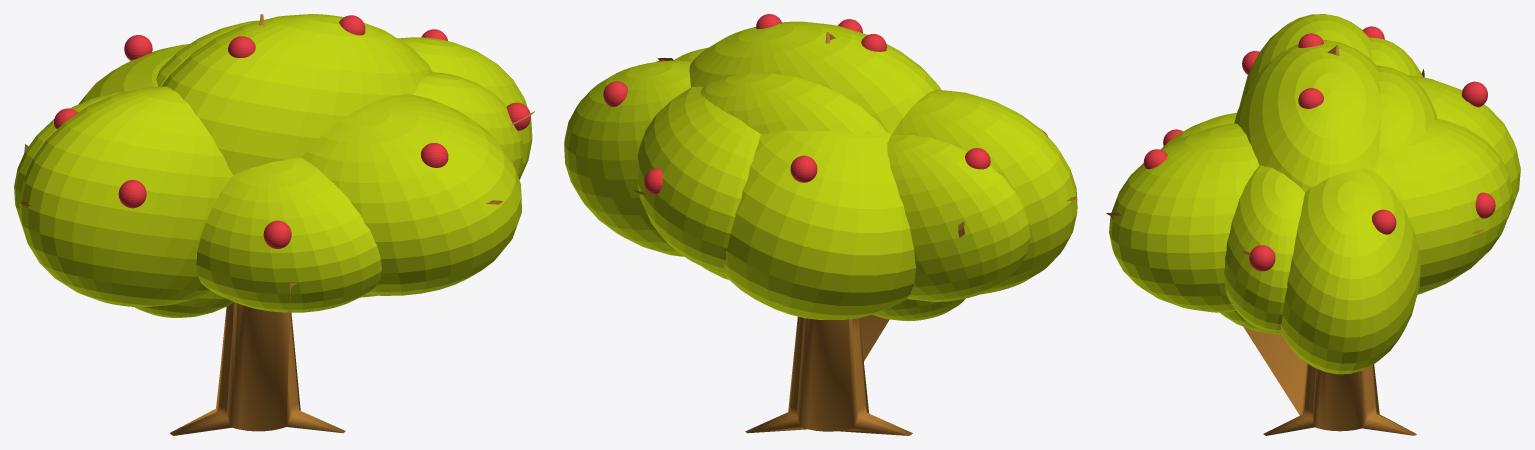
Rendered from brush.fbx.
The picture shows the model from 3 angles, left to right: view 1: azimuth 30°, elevation 25°; view 2: azimuth 150°, elevation 25°; view 3: azimuth 270°, elevation 25°; orthographic projection. The views are drawn at different scales.
Parts seen in each view (by area): view 1: berryBrush; view 2: berryBrush; view 3: berryBrush.
Part boxes in pixels (box(x1,y1,x2,y2)): berryBrush: box(14, 14, 534, 435); berryBrush: box(564, 14, 1077, 435); berryBrush: box(1106, 14, 1520, 435).
Size of the model in its own units: 308 by 228 by 232.
